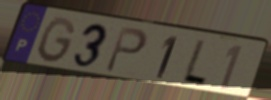1: (219, 43, 245, 91), (155, 35, 178, 80)
3: (71, 21, 114, 72)
G: (35, 16, 77, 66)
L: (179, 37, 209, 88)
P: (103, 25, 150, 75)
